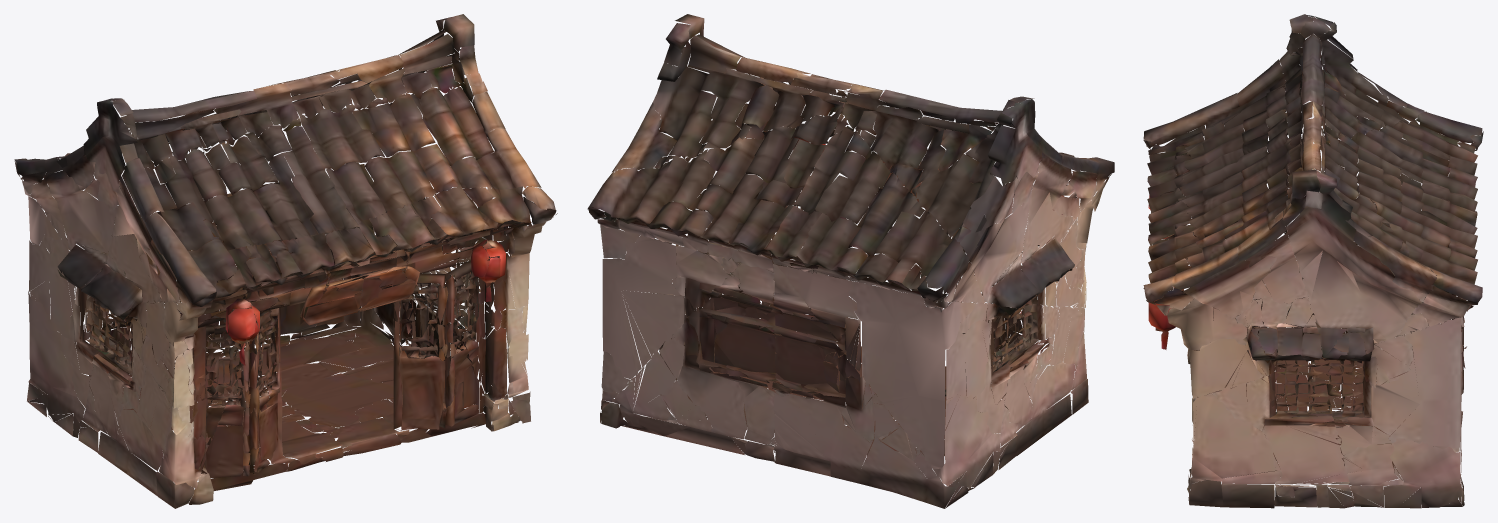
Rendered from house_b_20k.glb.
The picture shows the model from 3 angles, left to right: view 1: azimuth 30°, elevation 25°; view 2: azimuth 150°, elevation 25°; view 3: azimuth 270°, elevation 25°; orthographic projection. The views are drawn at different scales.
Visible parts, largest first — view 1: tripo_node_4c54a7d9-23c2-4f83-bcd5-d47f60c0be0a; view 2: tripo_node_4c54a7d9-23c2-4f83-bcd5-d47f60c0be0a; view 3: tripo_node_4c54a7d9-23c2-4f83-bcd5-d47f60c0be0a.
Boxes of the visible parts, x1=… form: tripo_node_4c54a7d9-23c2-4f83-bcd5-d47f60c0be0a: x1=14, y1=14, x2=557, y2=508; tripo_node_4c54a7d9-23c2-4f83-bcd5-d47f60c0be0a: x1=587, y1=14, x2=1114, y2=508; tripo_node_4c54a7d9-23c2-4f83-bcd5-d47f60c0be0a: x1=1143, y1=14, x2=1483, y2=508.
Bounding box in the file's own units: 0.9805 × 0.8457 × 0.7768.
Materials: 1 (1 with a texture image).
